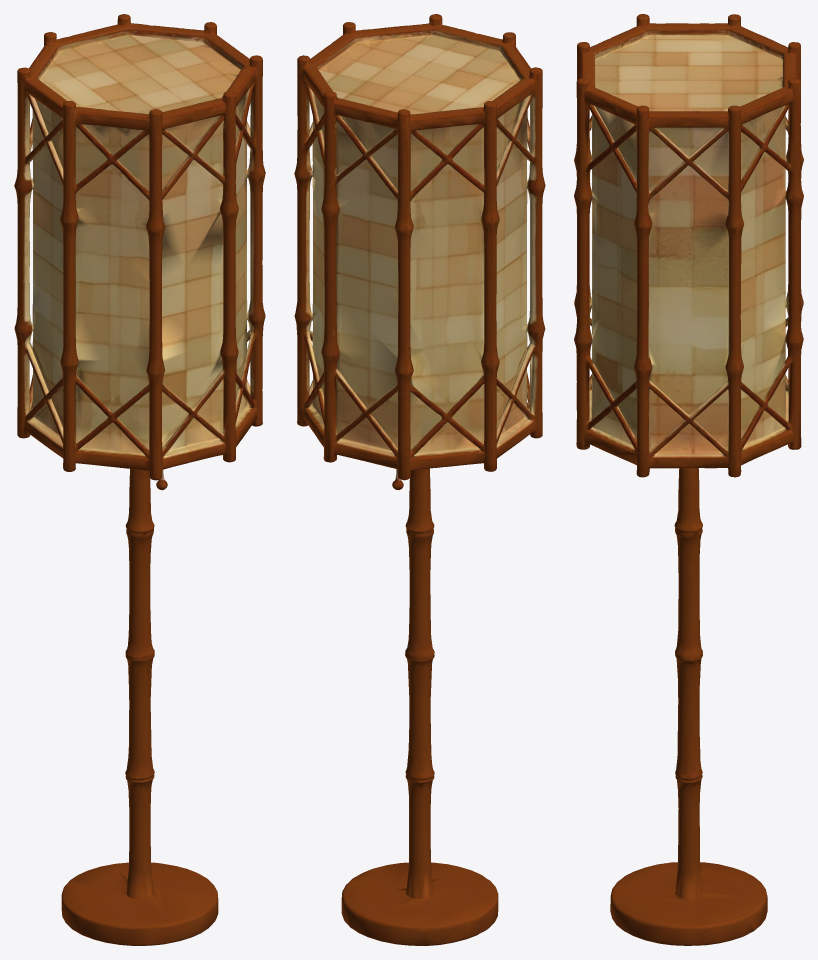
Rendered from KR_사물_s1_deco_hanji_lamp_old.glb.
The picture shows the model from 3 angles, left to right: view 1: azimuth 30°, elevation 25°; view 2: azimuth 150°, elevation 25°; view 3: azimuth 270°, elevation 25°; orthographic projection.
Visible parts, largest first — view 1: tripo_node_c9210cb4-f48e-4768-9e17-5406c69130e4; view 2: tripo_node_c9210cb4-f48e-4768-9e17-5406c69130e4; view 3: tripo_node_c9210cb4-f48e-4768-9e17-5406c69130e4.
Part boxes in pixels (x1=…): tripo_node_c9210cb4-f48e-4768-9e17-5406c69130e4: x1=14, y1=14, x2=265, y2=945; tripo_node_c9210cb4-f48e-4768-9e17-5406c69130e4: x1=294, y1=14, x2=545, y2=945; tripo_node_c9210cb4-f48e-4768-9e17-5406c69130e4: x1=574, y1=14, x2=803, y2=945.
Bounding box in the file's own units: 0.2498 × 0.9999 × 0.2445.
Materials: 1 (1 with a texture image).
